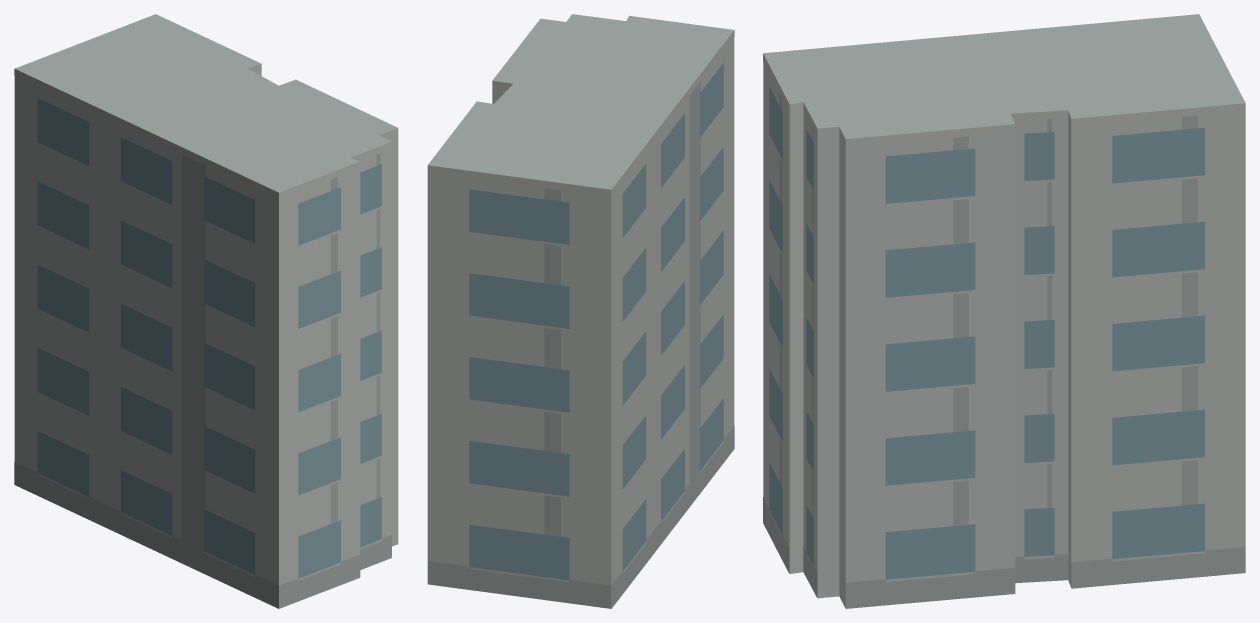
The model's file is survey-upis-32568227.glb.
The picture shows the model from 3 angles, left to right: view 1: azimuth 30°, elevation 25°; view 2: azimuth 150°, elevation 25°; view 3: azimuth 270°, elevation 25°; orthographic projection. The views are drawn at different scales.
Visible parts, largest first — view 1: survey-upis-32568227.tmp; view 2: survey-upis-32568227.tmp; view 3: survey-upis-32568227.tmp.
Part boxes in pixels (box(x1,y1,x2,y2)): survey-upis-32568227.tmp: box(14, 14, 398, 608); survey-upis-32568227.tmp: box(427, 14, 734, 608); survey-upis-32568227.tmp: box(763, 14, 1245, 608).
Size of the model in its own units: 8.18 by 14.3 by 13.33.
